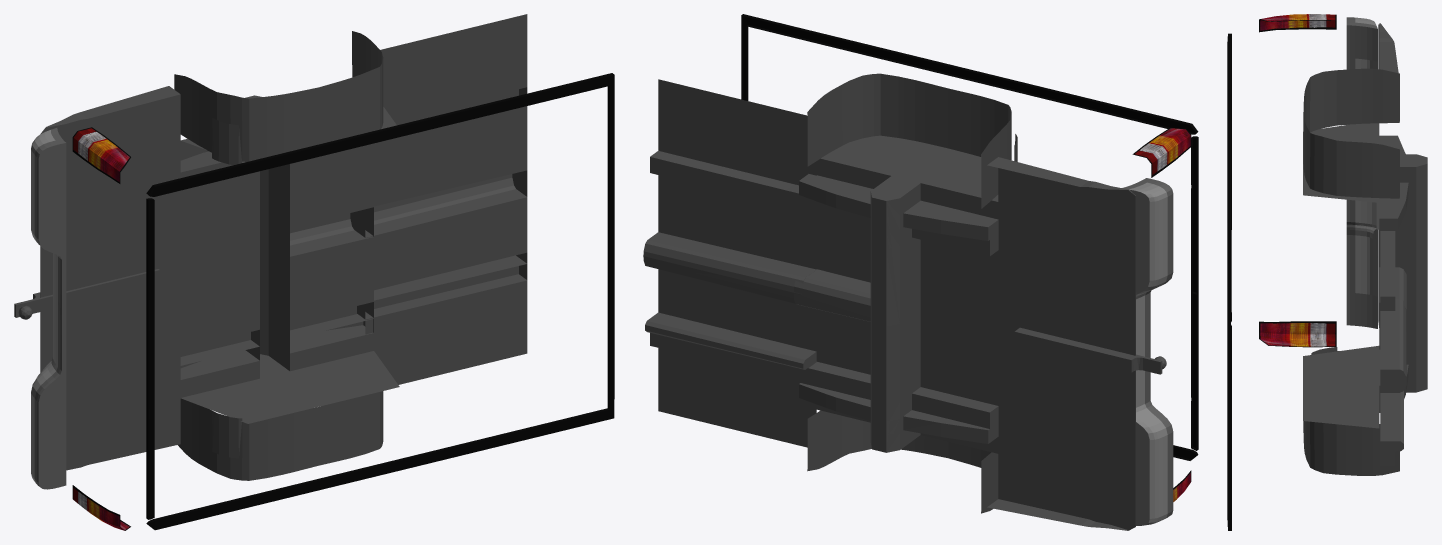
File: details.obj
The picture shows the model from 3 angles, left to right: view 1: azimuth 30°, elevation 25°; view 2: azimuth 150°, elevation 25°; view 3: azimuth 270°, elevation 25°; orthographic projection. The views are drawn at different scales.
Parts seen in each view (by area): view 1: 7_-_Default, 10_-_Default, 11_-_Default, 1_-_Default, Material__2; view 2: 7_-_Default, 10_-_Default, Material__2, 11_-_Default, 1_-_Default; view 3: 7_-_Default, 11_-_Default, 10_-_Default, 1_-_Default, Material__2.
Boxes of the visible parts, x1,y1,x2,y2 form: 7_-_Default: (14, 14, 527, 480); 10_-_Default: (72, 73, 614, 530); 11_-_Default: (34, 128, 66, 489); 1_-_Default: (73, 128, 129, 530); Material__2: (31, 130, 57, 482); 7_-_Default: (643, 73, 1166, 530); 10_-_Default: (741, 14, 1198, 489); Material__2: (1129, 182, 1167, 525); 11_-_Default: (1122, 178, 1173, 525); 1_-_Default: (1135, 128, 1190, 501); 7_-_Default: (1303, 23, 1427, 475); 11_-_Default: (1346, 17, 1377, 328); 10_-_Default: (1227, 14, 1336, 530); 1_-_Default: (1260, 14, 1335, 346); Material__2: (1355, 17, 1376, 295).
Bounding box in the file's own units: 2.78 × 1.98 × 1.07.
Materials: 5 (1 with a texture image).
